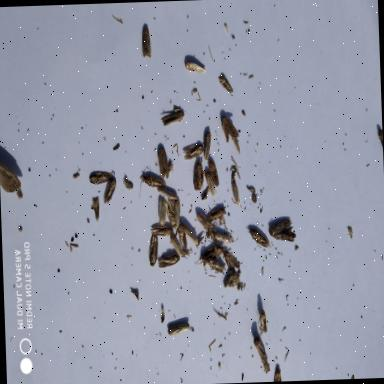pbw: (245, 220, 272, 250), (251, 334, 271, 372), (220, 112, 240, 144), (268, 213, 292, 236), (194, 208, 215, 234), (206, 155, 222, 188), (168, 230, 186, 259), (160, 108, 186, 128), (198, 244, 224, 264), (190, 160, 206, 192), (146, 232, 160, 267), (156, 145, 170, 180), (102, 174, 118, 204), (182, 222, 201, 247), (140, 22, 152, 60), (88, 167, 112, 186), (166, 320, 191, 338), (176, 226, 190, 258), (255, 306, 268, 340), (156, 254, 180, 272), (216, 72, 234, 96), (180, 144, 204, 162), (223, 248, 241, 272), (154, 185, 179, 202), (204, 256, 225, 275), (272, 228, 296, 244), (164, 200, 176, 231), (207, 204, 226, 223), (184, 60, 206, 76), (212, 230, 236, 244), (204, 170, 216, 198), (150, 223, 174, 237), (203, 130, 214, 160), (91, 195, 102, 224), (231, 180, 242, 208), (156, 197, 166, 226), (173, 199, 183, 228), (222, 268, 234, 288), (198, 185, 210, 204), (272, 364, 285, 380), (166, 158, 175, 172)
